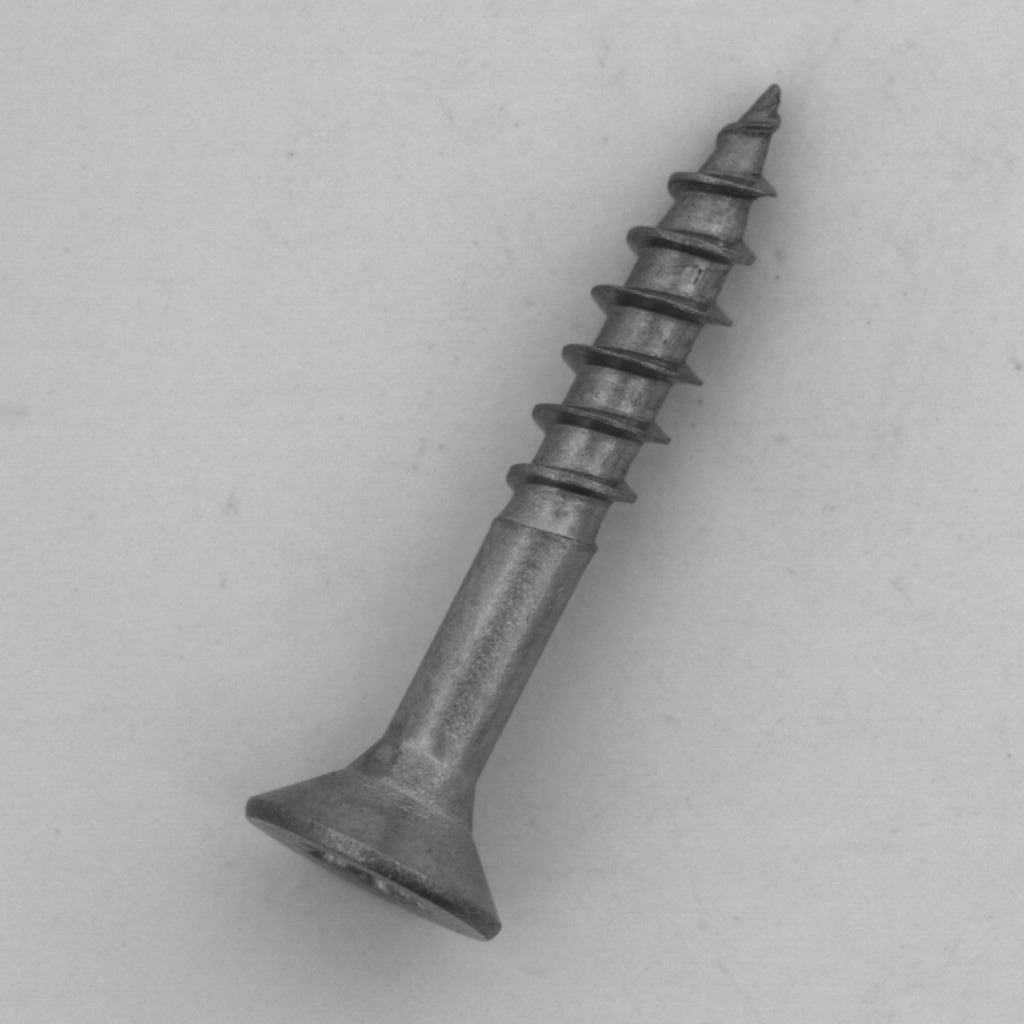good: (234, 62, 805, 945)
